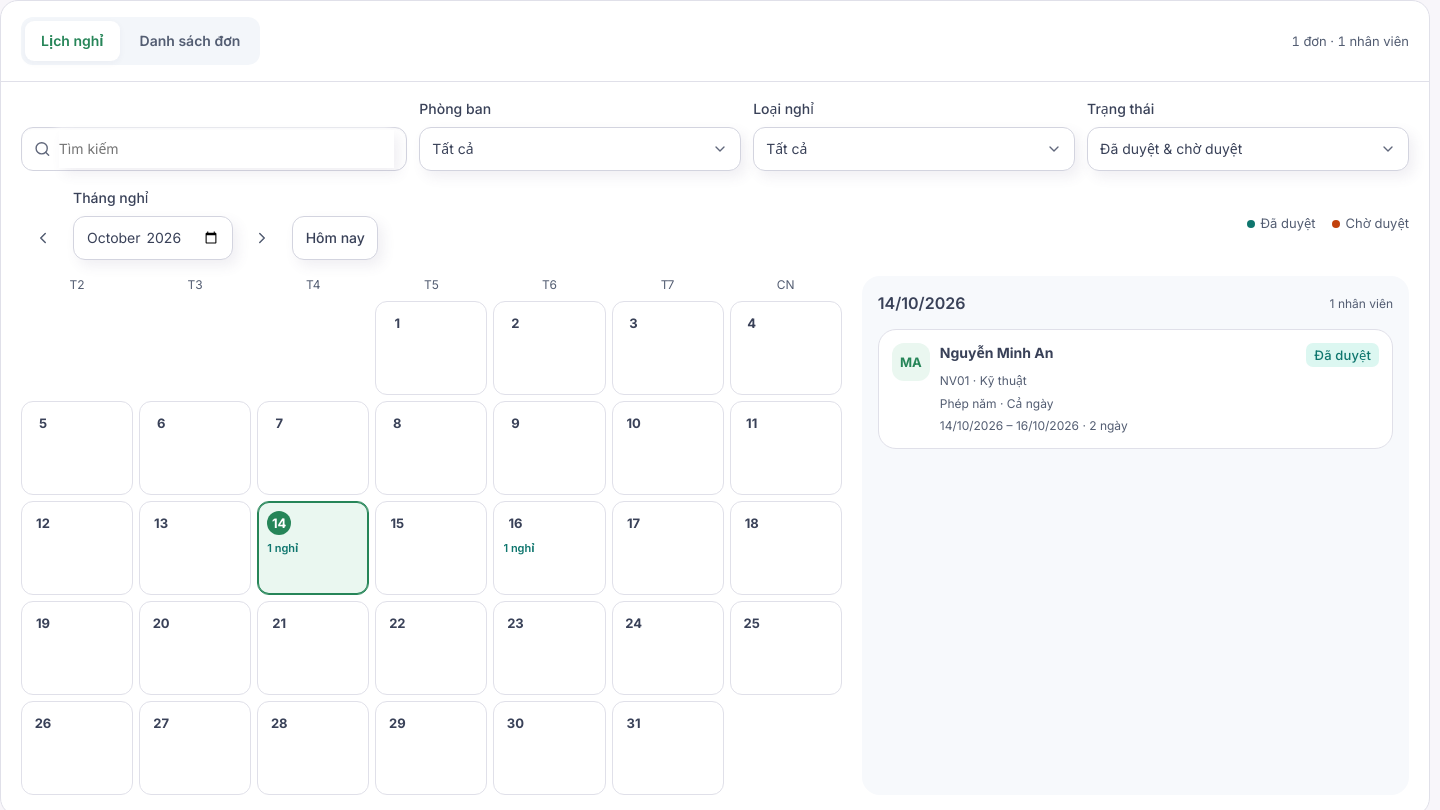
Test: leave request list scope › excludes nonworking dates from the saved request snapshot
Expected: the text "1 đơn · 1 nhân viên" is shown, [1292, 32, 1409, 50]
Click the button named "15/10/2026, 0 nhân viên nghỉ đã duyệt, 0 chờ duyệt": (431, 548) [375, 501, 487, 595]
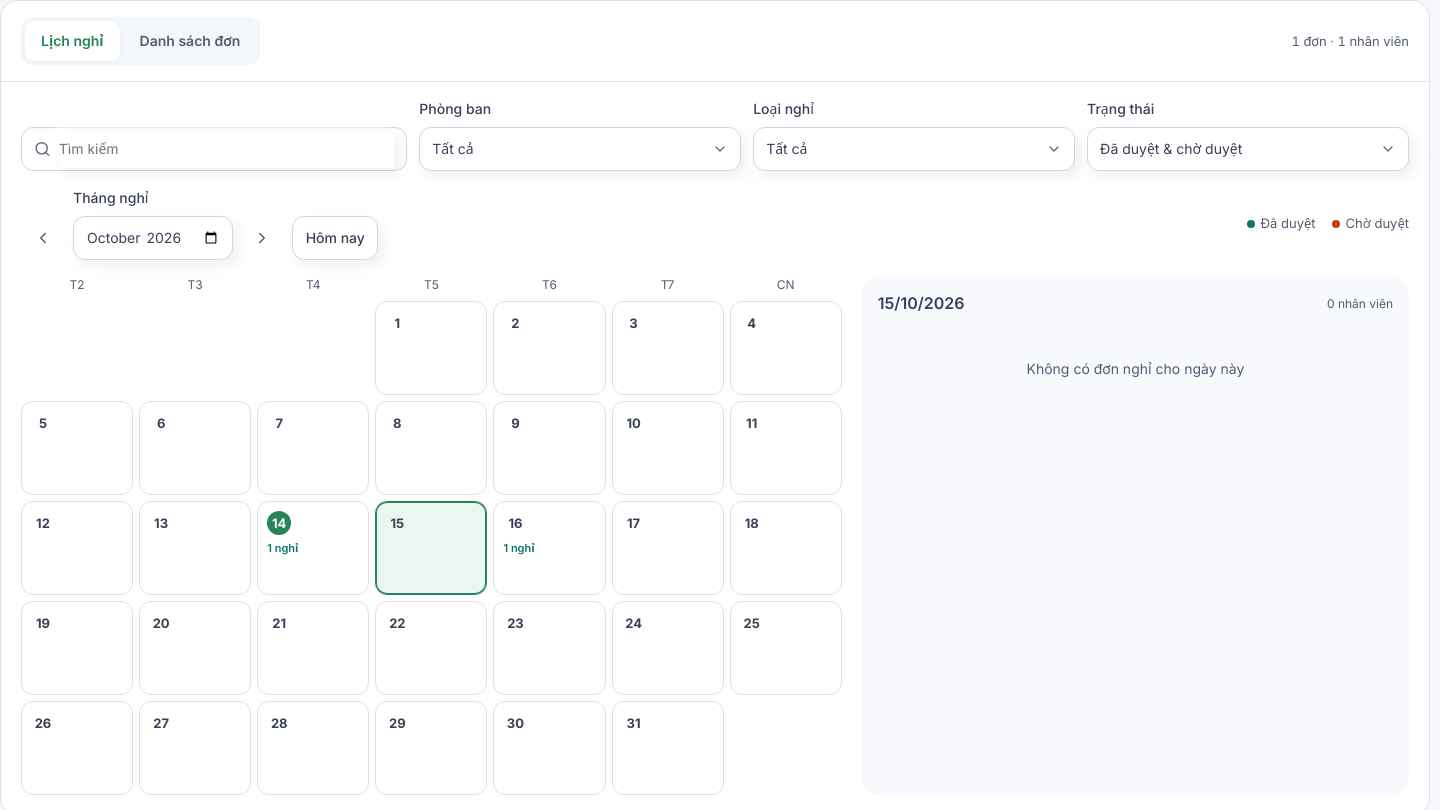
Now the link is gone
Now the text "Không có đơn nghỉ cho ngày này" is shown, box [1026, 360, 1244, 377]
